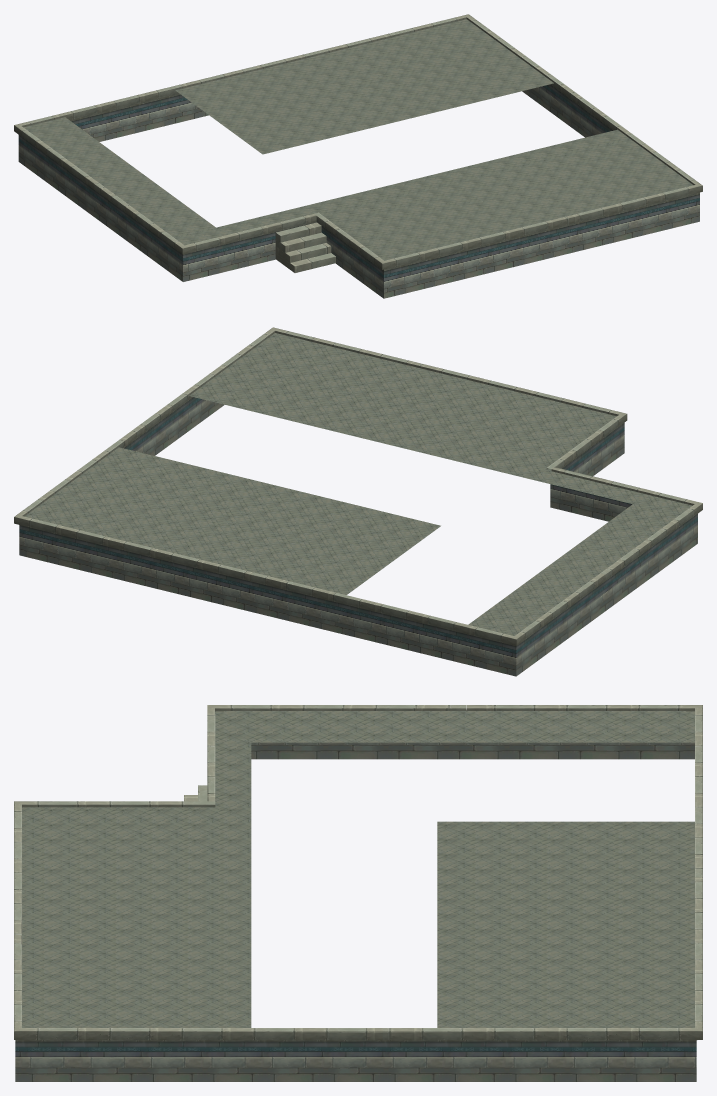
File: szc_building_dimian_quyu03_01.FBX
The picture shows the model from 3 angles, top to bottom: view 1: azimuth 30°, elevation 25°; view 2: azimuth 150°, elevation 25°; view 3: azimuth 270°, elevation 25°; orthographic projection. The views are drawn at different scales.
Visible parts, largest first — view 1: szc_building_dimian_quyu03_01; view 2: szc_building_dimian_quyu03_01; view 3: szc_building_dimian_quyu03_01.
Boxes of the visible parts, box(x1,y1,x2,y2) form: szc_building_dimian_quyu03_01: box(14, 14, 702, 298); szc_building_dimian_quyu03_01: box(14, 327, 702, 676); szc_building_dimian_quyu03_01: box(14, 705, 702, 1081).
Bounding box in the file's own units: 1515 × 114 × 1352.
